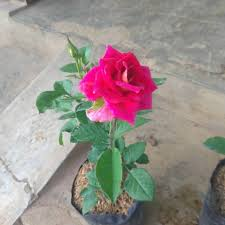rose: (76, 37, 157, 122)
